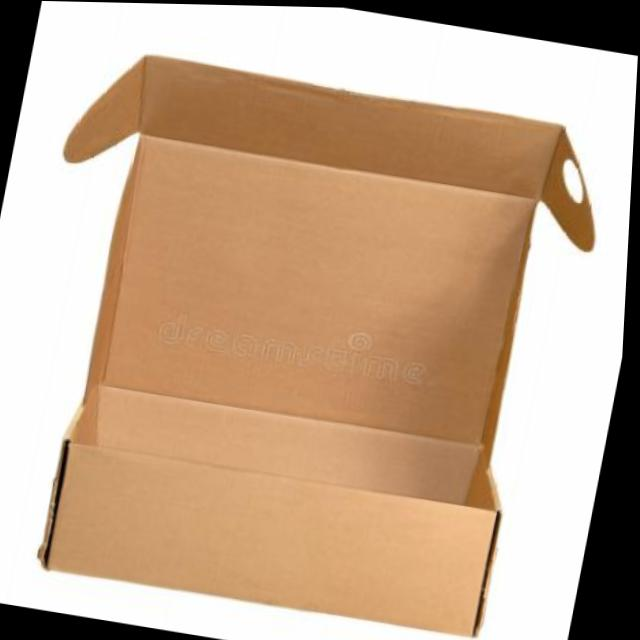box: (0, 30, 627, 640)
